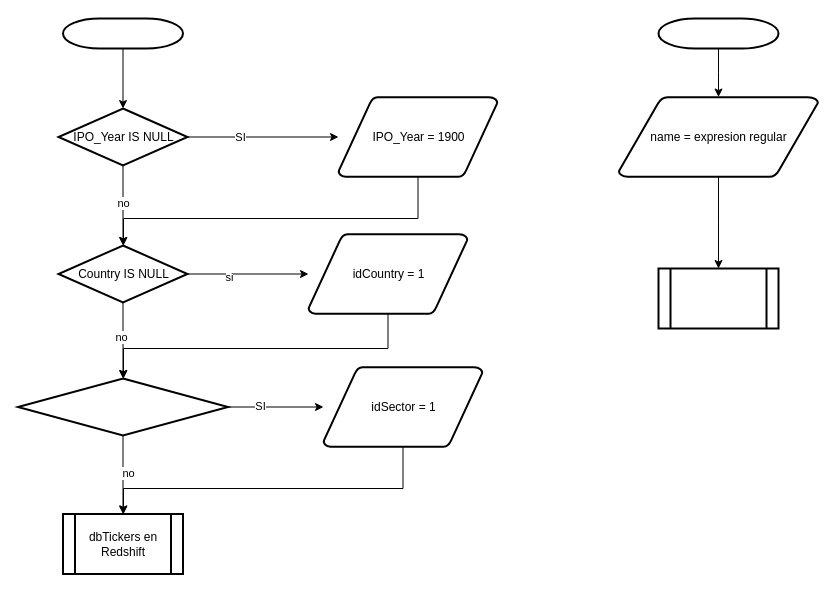
Image size: 837x592. Some labels were removed from this diagram. The centre of each missing label's shape, as x and y in pixels:
dbTickers: the point at 123,33
GIDS Directory: the point at 718,33
Sector | Industry = NULL: the point at 122,406
tbGids en Redshift: the point at 718,298
